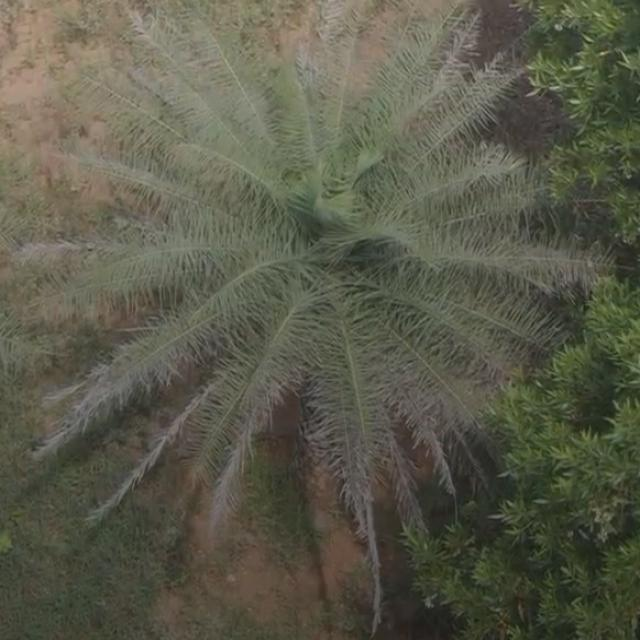notMangoTree: (24, 0, 618, 603)
